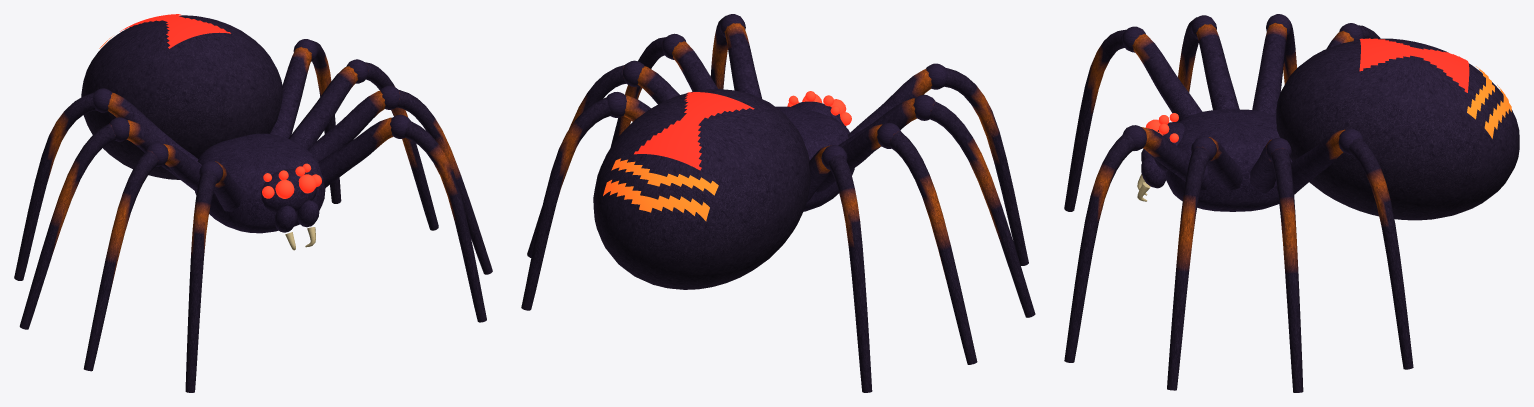
File: b43bcfef-706b-4ea7-a56d-a11bcf66ea05.glb
The picture shows the model from 3 angles, left to right: view 1: azimuth 30°, elevation 25°; view 2: azimuth 150°, elevation 25°; view 3: azimuth 270°, elevation 25°; orthographic projection. The views are drawn at different scales.
Visible parts, largest first — view 1: Body, LegL, LegL2, LegR2, LegR4, LegR3, LegR, LegL3, LegL4, Head, Jaw; view 2: Body, LegR3, LegR2, LegR, LegR4, LegL4, LegL, LegL2, LegL3, Head; view 3: Body, LegL4, LegR, LegL, LegL2, LegL3, LegR2, LegR3, Jaw, Head, LegR4.
Part boxes in pixels (x1,y1,x2,y2): Body: (81,14,325,233); LegL: (318,114,486,322); LegL2: (307,85,492,274); LegR2: (83,142,215,371); LegR4: (14,88,198,280); LegR3: (19,117,201,329); LegR: (185,161,242,392); LegL3: (288,59,438,230); LegL4: (270,39,341,203); Head: (261,163,321,213); Jaw: (274,200,319,250); Body: (593,89,854,289); LegR3: (816,123,977,364); LegR2: (838,94,1035,317); LegR: (848,63,1028,265); LegR4: (807,145,872,392); LegL4: (521,92,650,310); LegL: (710,14,761,98); LegL2: (610,33,717,147); LegL3: (527,60,679,257); Head: (787,91,851,126); Body: (1165,38,1519,220); LegL4: (1276,128,1413,369); LegR: (1064,26,1202,211); LegL: (1064,125,1209,362); LegL2: (1167,136,1242,390); LegL3: (1250,137,1303,392); LegR2: (1176,15,1239,122); LegR3: (1252,14,1296,115); Jaw: (1137,148,1165,201); Head: (1145,113,1184,172); LegR4: (1326,23,1380,48).
Size of the model in its own units: 1.5 by 0.7648 by 1.32.
Materials: 4 (2 with a texture image).
